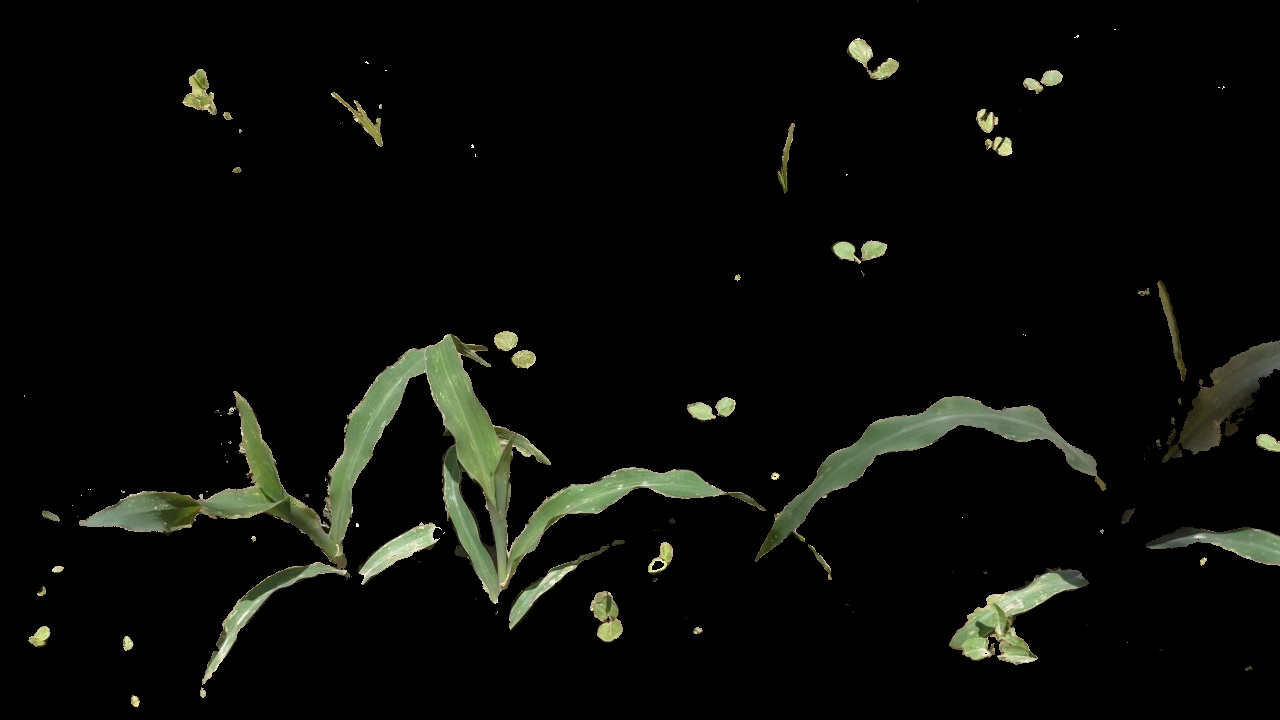crop: (786, 254, 1280, 700), (422, 324, 783, 658), (108, 368, 438, 624)
weed: (325, 87, 399, 148), (180, 63, 237, 139), (964, 617, 1038, 671), (831, 232, 891, 284), (773, 110, 809, 190), (850, 32, 904, 85), (676, 394, 757, 429), (498, 321, 543, 384), (976, 95, 1014, 161), (585, 582, 625, 643), (1014, 72, 1086, 97), (640, 542, 675, 582), (17, 614, 54, 650), (111, 633, 133, 656)
